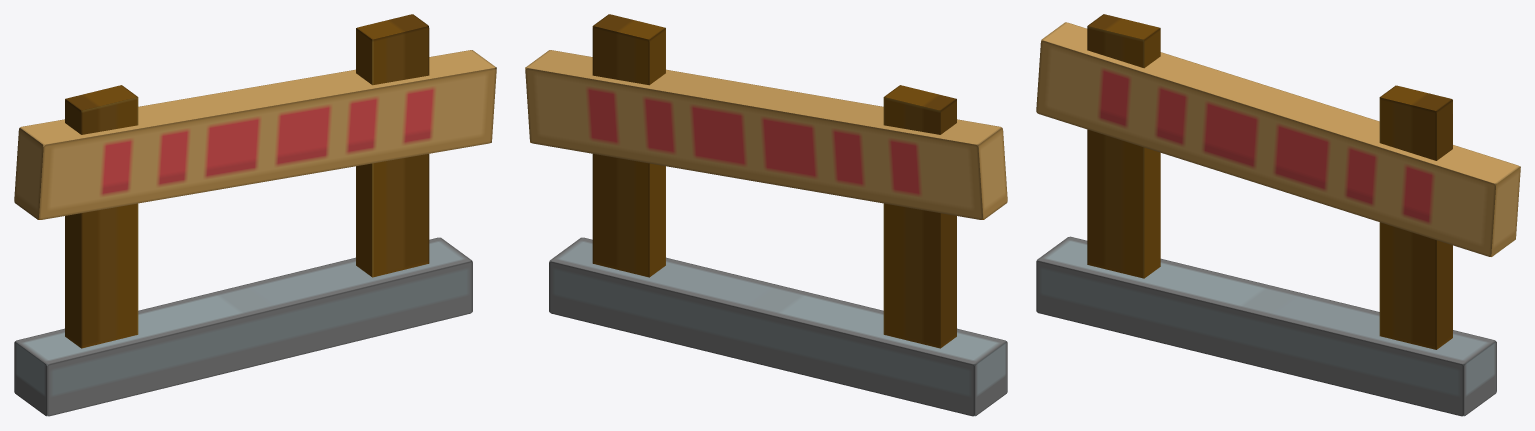
The model's file is Barrier.fbx.
The picture shows the model from 3 angles, left to right: view 1: azimuth 30°, elevation 25°; view 2: azimuth 150°, elevation 25°; view 3: azimuth 330°, elevation 25°; orthographic projection.
Visible parts, largest first — view 1: cuboid, cuboid_3, cuboid_2, cuboid_1; view 2: cuboid, cuboid_3, cuboid_2, cuboid_1; view 3: cuboid, cuboid_3, cuboid_1, cuboid_2.
Boxes of the visible parts, left/top/right/bottom form: cuboid: left=14, top=50, right=496, bottom=219; cuboid_3: left=14, top=237, right=472, bottom=416; cuboid_2: left=65, top=85, right=138, bottom=348; cuboid_1: left=356, top=14, right=429, bottom=277; cuboid: left=525, top=50, right=1007, bottom=219; cuboid_3: left=549, top=237, right=1007, bottom=416; cuboid_2: left=883, top=85, right=956, bottom=348; cuboid_1: left=592, top=14, right=665, bottom=277; cuboid: left=1036, top=22, right=1520, bottom=256; cuboid_3: left=1036, top=236, right=1496, bottom=416; cuboid_1: left=1379, top=85, right=1452, bottom=349; cuboid_2: left=1087, top=14, right=1160, bottom=278.
Size of the model in its own units: 40.34 by 24.38 by 5.
Materials: 1 (1 with a texture image).
